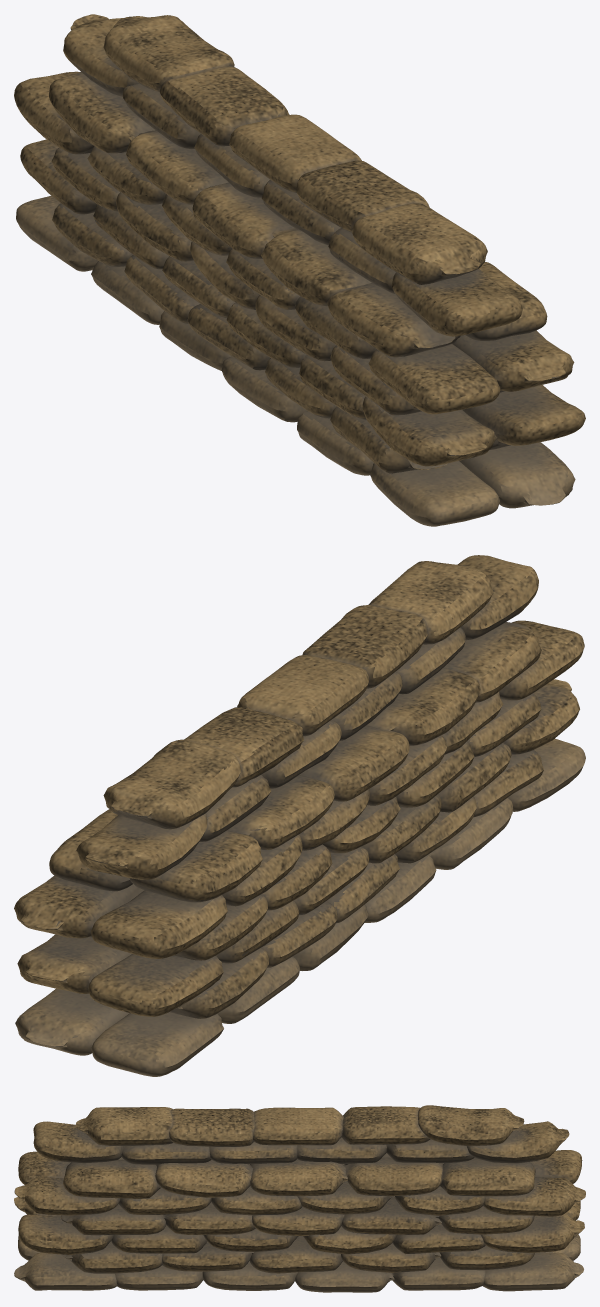
File: SM_SandbagWall_3m_Body.fbx
The picture shows the model from 3 angles, top to bottom: view 1: azimuth 30°, elevation 25°; view 2: azimuth 150°, elevation 25°; view 3: azimuth 270°, elevation 25°; orthographic projection. The views are drawn at different scales.
Visible parts, largest first — view 1: SandbagWall_3m_Body; view 2: SandbagWall_3m_Body; view 3: SandbagWall_3m_Body.
Boxes of the visible parts, box(x1,y1,x2,y2) form: SandbagWall_3m_Body: box(14, 14, 585, 526); SandbagWall_3m_Body: box(14, 555, 585, 1076); SandbagWall_3m_Body: box(14, 1105, 585, 1292).
Bounding box in the file's own units: 3.11 × 0.7078 × 0.9321.
1 material, 1 textured.
